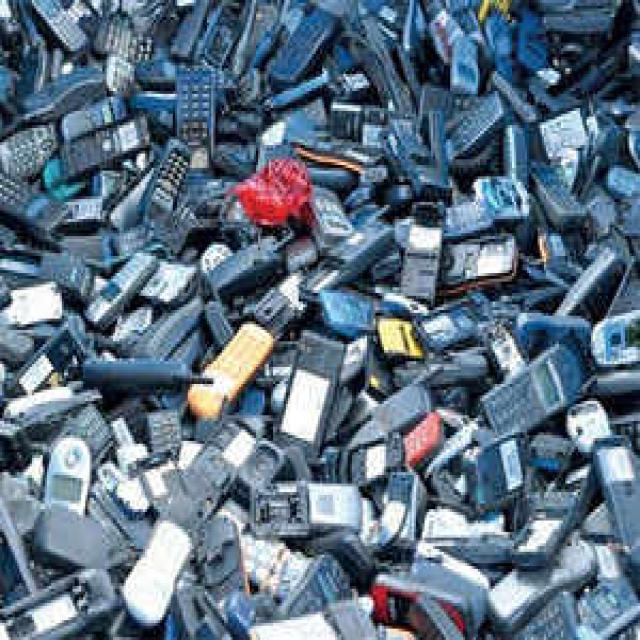Hazard: (12, 19, 627, 637)
